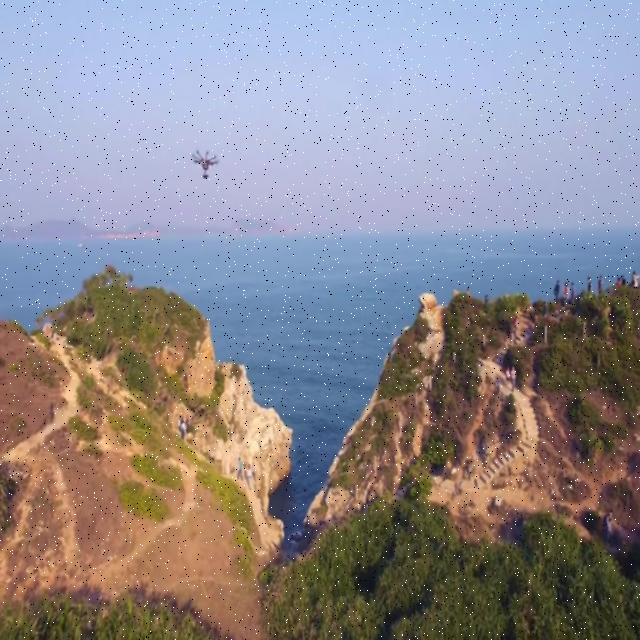UAV: (192, 150, 219, 180)
